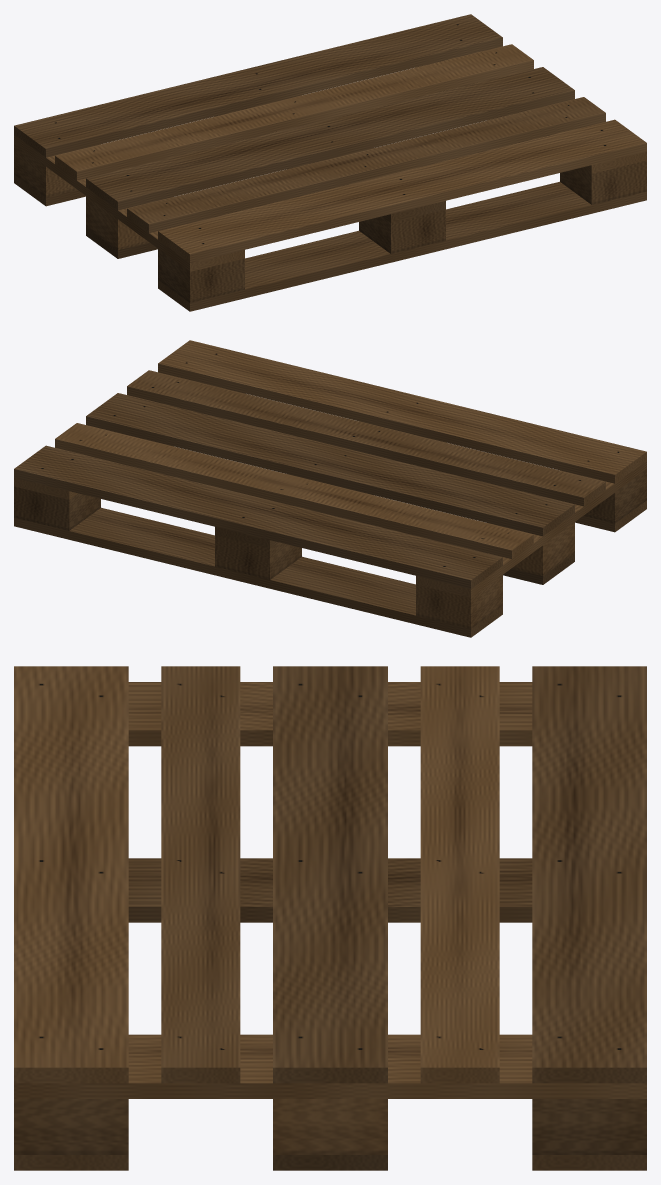
File: wooden_shipping_pallet_LOD2.glb
The picture shows the model from 3 angles, top to bottom: view 1: azimuth 30°, elevation 25°; view 2: azimuth 150°, elevation 25°; view 3: azimuth 270°, elevation 25°; orthographic projection. The views are drawn at different scales.
Visible parts, largest first — view 1: Top_Deck_Board_5, Top_Deck_Board_3, Top_Deck_Board_1, Top_Deck_Board_2, Top_Deck_Board_4, Bottom_Runner_1, Support_Block_1_1, Support_Block_3_1, Support_Block_2_1, Cross_Board_1, Support_Block_1_2, Support_Block_1_3 (+4 smaller); view 2: Top_Deck_Board_1, Top_Deck_Board_3, Top_Deck_Board_5, Top_Deck_Board_2, Top_Deck_Board_4, Bottom_Runner_3, Support_Block_1_3, Support_Block_3_3, Support_Block_2_3, Cross_Board_1, Support_Block_1_1, Support_Block_1_2 (+4 smaller); view 3: Top_Deck_Board_1, Top_Deck_Board_3, Top_Deck_Board_5, Top_Deck_Board_2, Top_Deck_Board_4, Cross_Board_3, Cross_Board_2, Cross_Board_1, Support_Block_3_1, Support_Block_3_2, Support_Block_3_3, Bottom_Runner_1 (+2 smaller).
Boxes of the visible parts, x1,y1,x2,y2 form: Top_Deck_Board_5: (14, 14, 502, 157); Top_Deck_Board_3: (86, 67, 574, 210); Top_Deck_Board_1: (158, 119, 646, 262); Top_Deck_Board_2: (127, 97, 605, 232); Top_Deck_Board_4: (55, 44, 533, 180); Bottom_Runner_1: (158, 181, 646, 311); Support_Block_1_1: (158, 249, 244, 302); Support_Block_3_1: (560, 160, 646, 204); Support_Block_2_1: (359, 209, 445, 253); Cross_Board_1: (14, 134, 244, 271); Support_Block_1_2: (86, 196, 149, 250); Support_Block_1_3: (14, 143, 77, 197); Top_Deck_Board_1: (158, 340, 646, 483); Top_Deck_Board_3: (86, 393, 574, 536); Top_Deck_Board_5: (14, 445, 502, 588); Top_Deck_Board_2: (127, 370, 605, 506); Top_Deck_Board_4: (55, 423, 533, 558); Bottom_Runner_3: (14, 507, 502, 637); Support_Block_1_3: (416, 575, 502, 628); Support_Block_3_3: (14, 486, 100, 530); Support_Block_2_3: (215, 535, 301, 579); Cross_Board_1: (416, 460, 646, 597); Support_Block_1_1: (583, 469, 646, 523); Support_Block_1_2: (511, 522, 574, 576); Top_Deck_Board_1: (14, 666, 128, 1083); Top_Deck_Board_3: (273, 666, 387, 1083); Top_Deck_Board_5: (532, 666, 646, 1083); Top_Deck_Board_2: (161, 666, 240, 1083); Top_Deck_Board_4: (420, 666, 499, 1083); Cross_Board_3: (14, 1034, 646, 1098); Cross_Board_2: (128, 858, 532, 922); Cross_Board_1: (128, 682, 532, 746); Support_Block_3_1: (14, 1099, 128, 1154); Support_Block_3_2: (273, 1099, 387, 1154); Support_Block_3_3: (532, 1099, 646, 1154); Bottom_Runner_1: (14, 1155, 128, 1170).
Size of the model in its own units: 1.2 by 0.144 by 0.8.
Materials: 1 (1 with a texture image).
